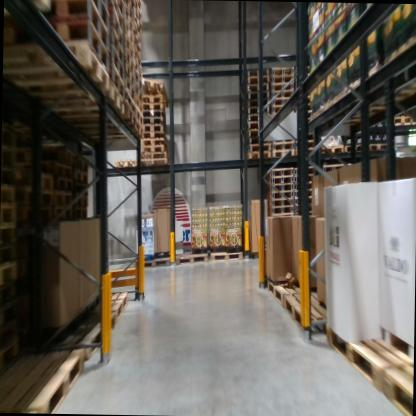pallet: (136, 68, 272, 165), (316, 312, 405, 399), (0, 352, 99, 410), (3, 22, 113, 72), (7, 39, 111, 91), (34, 315, 116, 360), (44, 0, 113, 50), (282, 288, 345, 336), (44, 80, 125, 116), (377, 360, 410, 414), (69, 104, 135, 130), (135, 61, 169, 106), (75, 117, 142, 138), (264, 279, 313, 305), (109, 47, 128, 97), (111, 1, 126, 54), (23, 188, 54, 211), (94, 292, 129, 312), (21, 169, 54, 188), (206, 248, 244, 264), (51, 179, 73, 206), (0, 245, 20, 274), (46, 158, 72, 180), (174, 247, 204, 266), (0, 261, 18, 290), (245, 142, 272, 161), (139, 250, 173, 265), (392, 107, 416, 128), (136, 158, 166, 174), (89, 0, 108, 22), (142, 109, 168, 125), (3, 142, 18, 169), (112, 35, 126, 63), (0, 208, 18, 229), (265, 205, 294, 218), (1, 186, 18, 208), (124, 53, 137, 80), (269, 64, 296, 77), (366, 140, 392, 153), (0, 229, 21, 245), (125, 35, 136, 63), (112, 157, 137, 169), (346, 138, 366, 153), (132, 102, 144, 126), (136, 144, 168, 153), (302, 142, 324, 155), (71, 181, 91, 195), (271, 143, 296, 154), (1, 169, 17, 186), (136, 137, 166, 146), (243, 105, 273, 114), (265, 197, 292, 207), (124, 93, 135, 117), (70, 155, 87, 170), (124, 13, 135, 36), (271, 150, 294, 161), (135, 89, 144, 117), (267, 190, 292, 200), (141, 91, 165, 101), (124, 21, 133, 47), (269, 91, 295, 100), (267, 177, 293, 186), (292, 174, 318, 183), (271, 98, 296, 107), (324, 145, 346, 155), (127, 79, 136, 103), (73, 168, 88, 182), (72, 194, 88, 207), (245, 91, 271, 99), (246, 113, 272, 121), (246, 135, 272, 143), (271, 83, 294, 92), (292, 183, 315, 192), (141, 130, 166, 138), (267, 169, 292, 177), (266, 185, 291, 193), (293, 167, 318, 175), (293, 192, 315, 201), (245, 76, 269, 84), (268, 77, 295, 84), (243, 100, 270, 106), (128, 66, 135, 89), (246, 84, 269, 91), (143, 101, 163, 109), (142, 125, 168, 131), (135, 74, 144, 90), (247, 121, 263, 129), (137, 84, 144, 100), (246, 129, 262, 135)
